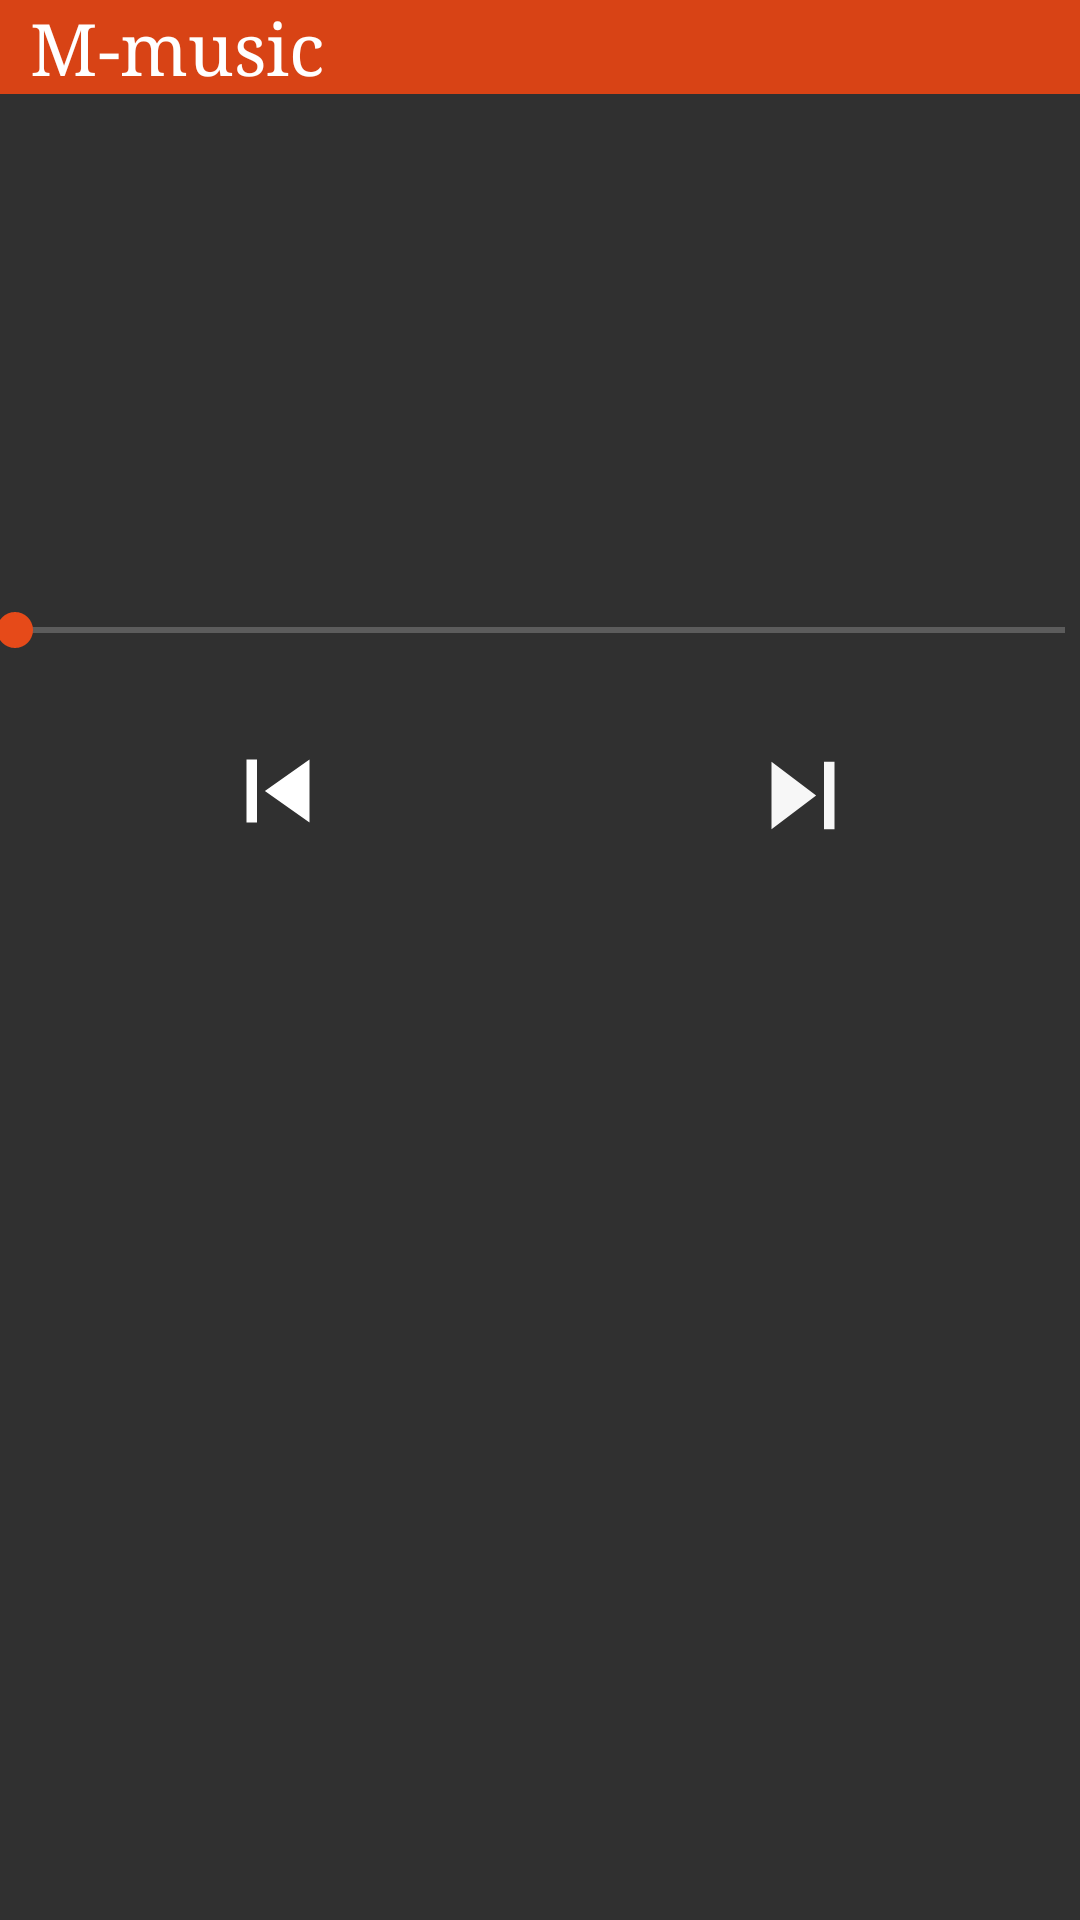

Named icons in this screenshot (1080px×1920px) and their bounding boxes, (x1, y1, x2, y2):
skip next: (771, 761, 835, 830)
skip previous: (246, 759, 310, 823)
